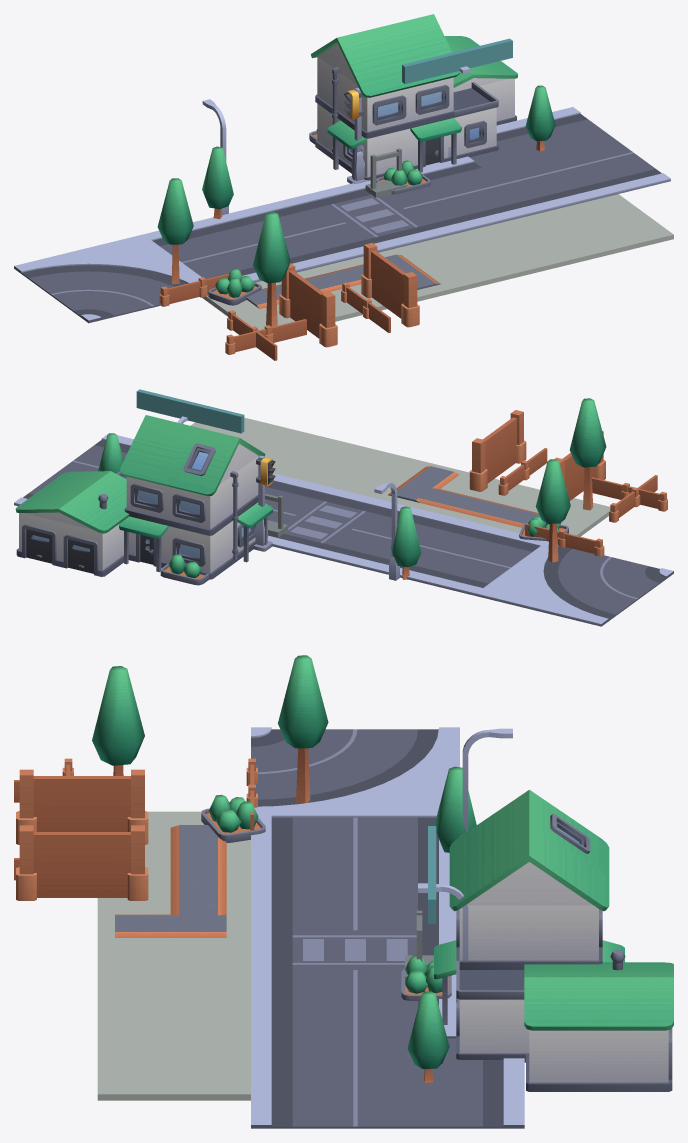
File: neighborhood-rainy-evening-static.glb
3 renders of one model, top to bottom at view 1: azimuth 30°, elevation 25°; view 2: azimuth 150°, elevation 25°; view 3: azimuth 270°, elevation 25°, orthographic. The views are drawn at different scales.
Visible parts, largest first — view 1: storefront_base_source, walkable_ground, road_side_east_source, road_bend_west_source, road_crossing_center_source, road_straight_west_source, road_half_east_source, park_fence_north_center_source, park_fence_north_west_source, tree_large_west_source, park_fence_low_west_source, store_sign (+9 smaller); view 2: storefront_base_source, walkable_ground, road_bend_west_source, road_straight_west_source, road_crossing_center_source, park_fence_north_center_source, store_sign, tree_large_west_source, park_fence_low_west_source, tree_large_north_source, park_fence_low_north_source, tree_small_path_source (+11 smaller); view 3: storefront_base_source, walkable_ground, road_side_east_source, road_straight_west_source, road_bend_west_source, road_crossing_center_source, park_fence_north_center_source, road_half_east_source, park_fence_north_west_source, tree_large_north_source, tree_large_west_source, park_path_long_west_source (+11 smaller).
Boxes of the visible parts, box(x1,y1,x2,y2) form: storefront_base_source: box(309, 14, 517, 180); walkable_ground: box(202, 194, 673, 330); road_side_east_source: box(470, 107, 670, 212); road_bend_west_source: box(14, 234, 201, 323); road_crossing_center_source: box(273, 180, 476, 259); road_straight_west_source: box(144, 203, 347, 282); road_half_east_source: box(416, 156, 541, 228); park_fence_north_center_source: box(361, 242, 419, 327); park_fence_north_west_source: box(279, 263, 337, 347); tree_large_west_source: box(253, 212, 290, 326); park_fence_low_west_source: box(159, 271, 306, 354); store_sign: box(402, 38, 512, 83); storefront_base_source: box(15, 415, 272, 585); walkable_ground: box(191, 417, 610, 536); road_bend_west_source: box(476, 541, 673, 626); road_straight_west_source: box(350, 510, 546, 595); road_crossing_center_source: box(266, 479, 422, 565); park_fence_north_center_source: box(469, 410, 526, 491); store_sign: box(136, 389, 244, 433); tree_large_west_source: box(569, 398, 606, 510); park_fence_low_west_source: box(525, 477, 667, 556); tree_large_north_source: box(535, 459, 570, 562); park_fence_low_north_source: box(498, 448, 657, 522); tree_small_path_source: box(390, 506, 421, 579); storefront_base_source: box(434, 789, 673, 1091); walkable_ground: box(97, 811, 250, 1100); road_side_east_source: box(251, 1036, 524, 1128); road_straight_west_source: box(251, 815, 449, 905); road_bend_west_source: box(251, 727, 459, 817); road_crossing_center_source: box(251, 904, 456, 994); park_fence_north_center_source: box(16, 825, 148, 900); road_half_east_source: box(251, 992, 456, 1038); park_fence_north_west_source: box(16, 769, 148, 844); tree_large_north_source: box(278, 655, 328, 803); tree_large_west_source: box(92, 666, 144, 775); park_path_long_west_source: box(170, 825, 226, 874).
Size of the model in its own units: 13.5 by 2.95 by 9.47.
18 materials, 15 textured.
